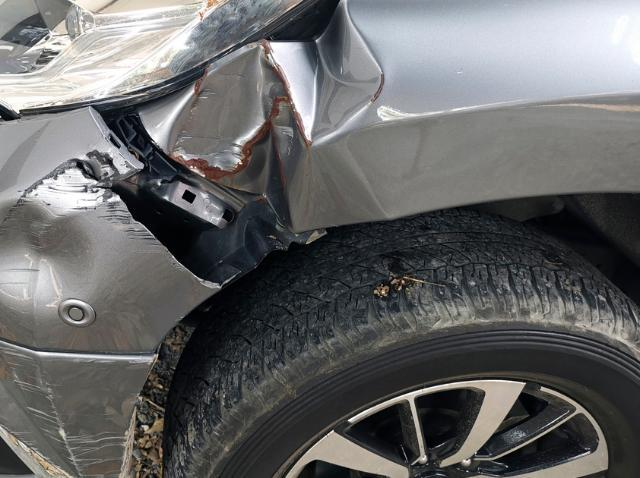Bumper: (7, 125, 184, 478)
Fender: (162, 11, 498, 212)
